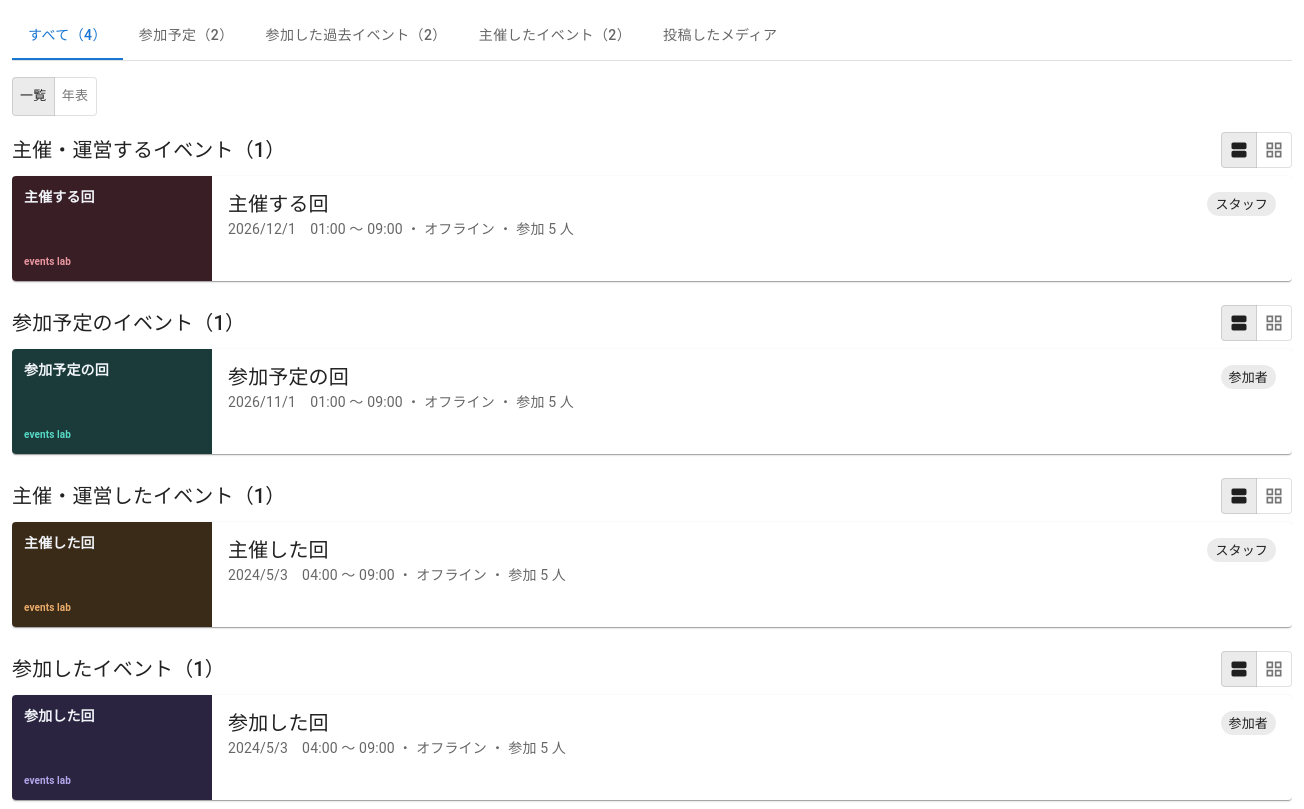
Test: プロフィールのタブ (#407) › 一覧⇄年表の切替はタブをまたいで共有される
Click the button "年表" at (75, 96), box x1=54 y1=77 x2=97 y2=116
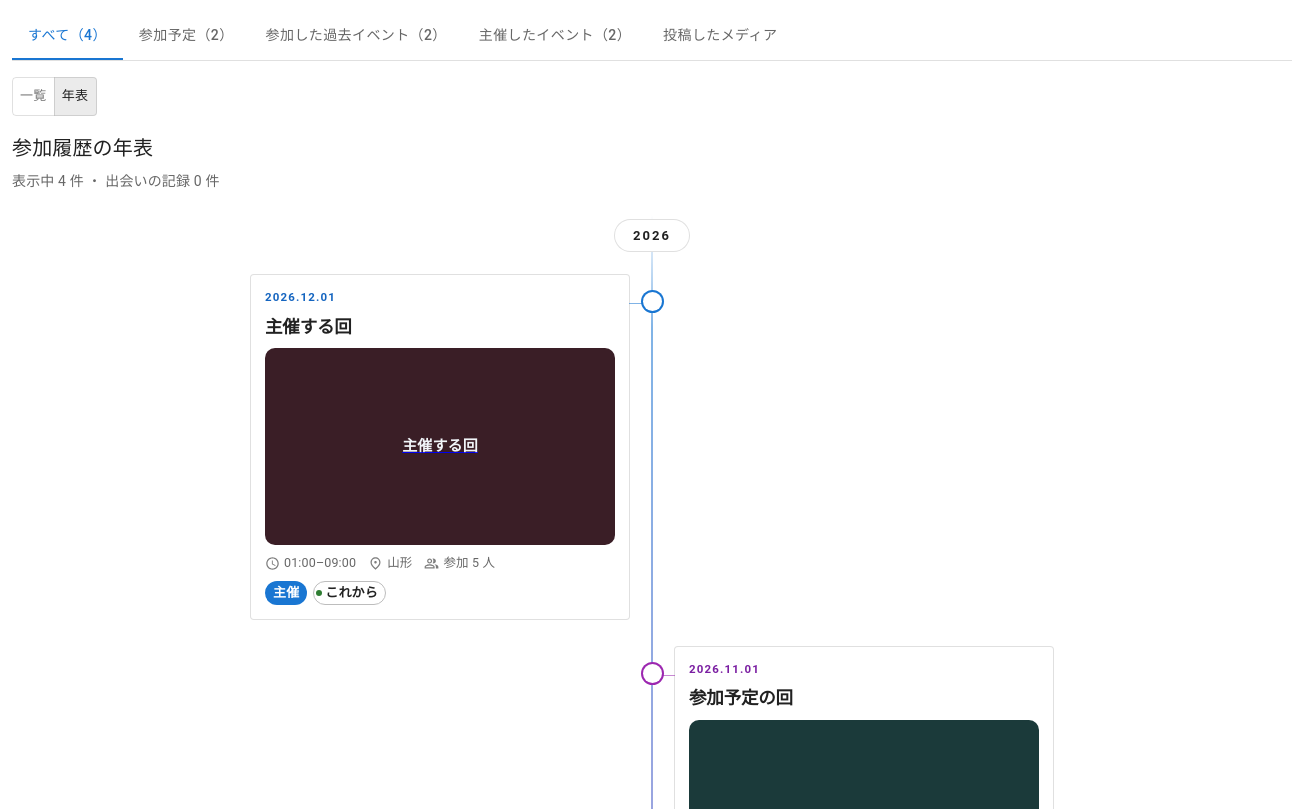
Result: the heading "参加履歴の年表" is shown at x1=12 y1=136 x2=153 y2=160
Result: the heading "参加予定のイベント（1）" is gone
Click the tab "参加した過去イベント（2）" at (356, 36), box x1=250 y1=12 x2=463 y2=60
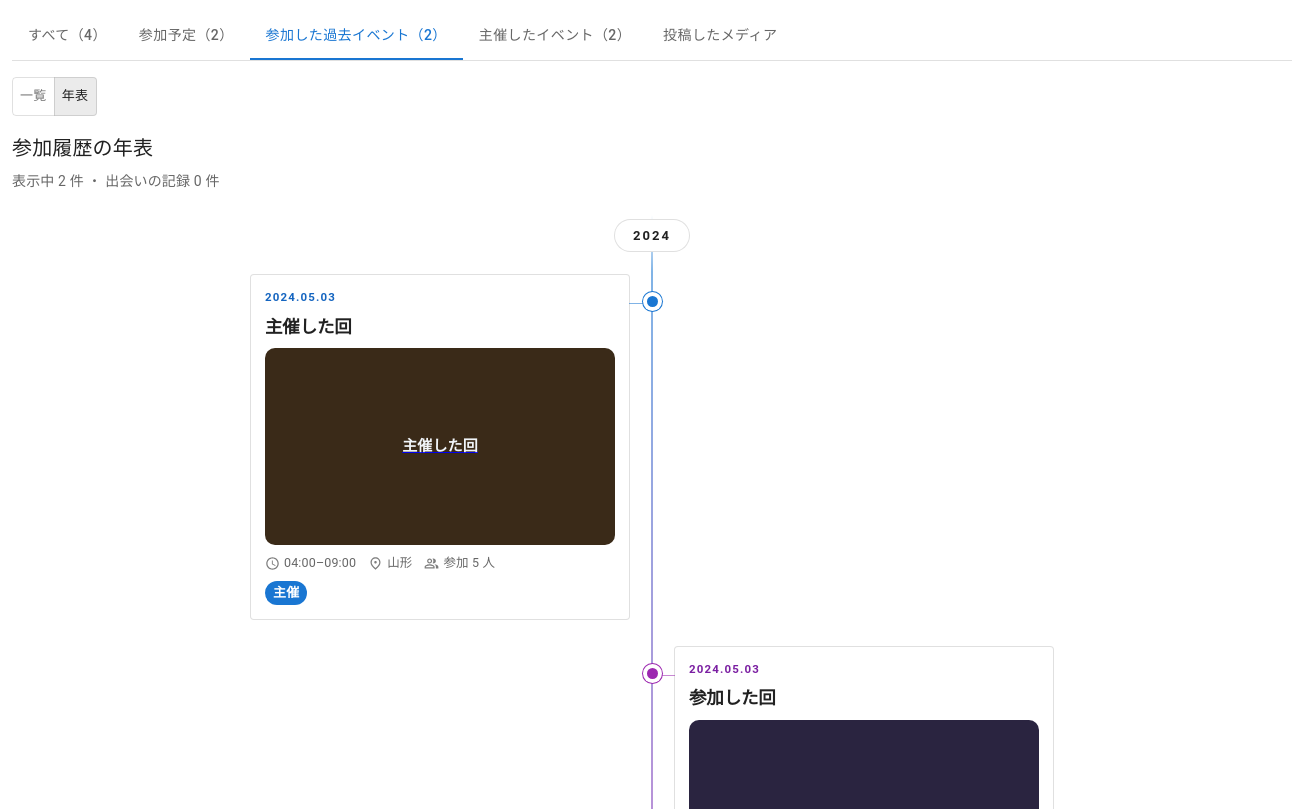
Result: the heading "参加履歴の年表" is shown at x1=12 y1=136 x2=153 y2=160
Result: the text "表示中 2 件 ・ 出会いの記録 0 件" is shown at x1=12 y1=173 x2=220 y2=189
Click the button "一覧" at (33, 96), box x1=12 y1=77 x2=55 y2=116
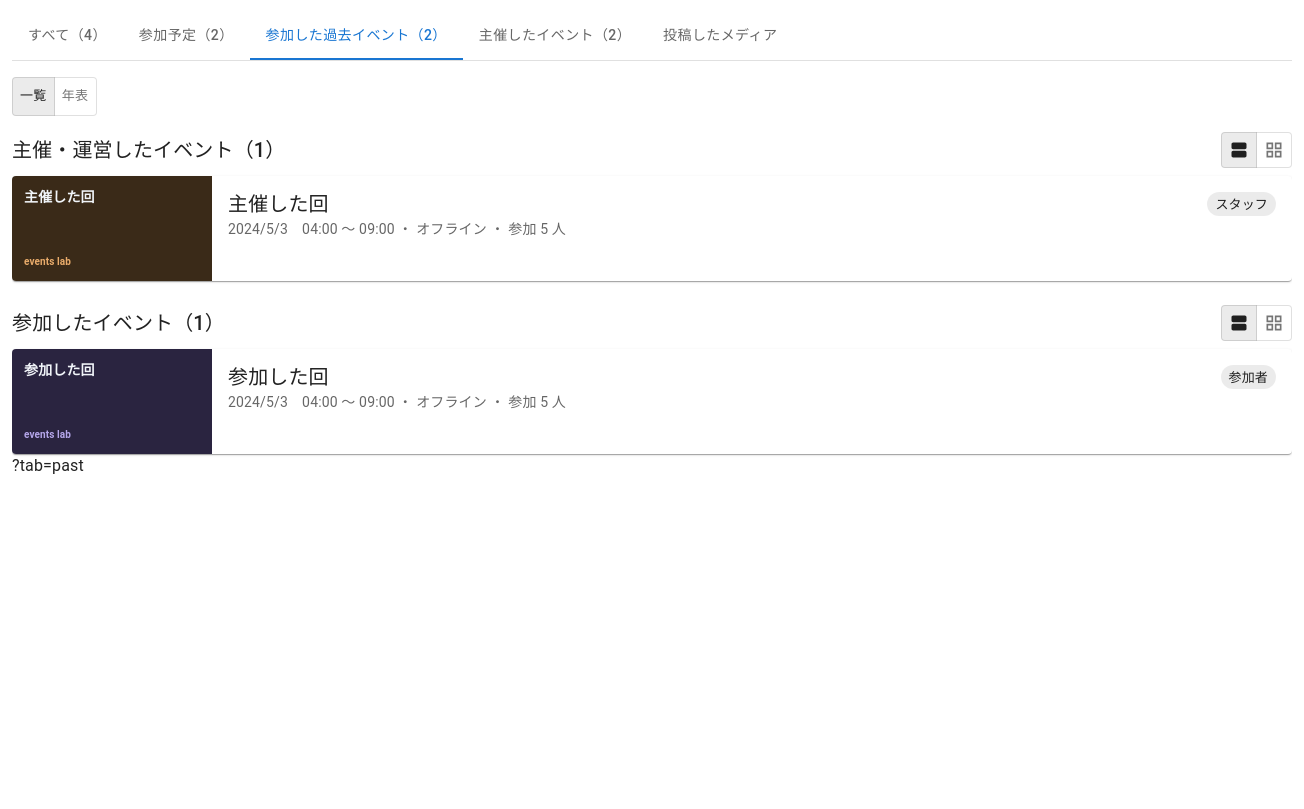
Result: the heading "参加したイベント（1）" is shown at x1=12 y1=307 x2=225 y2=339
